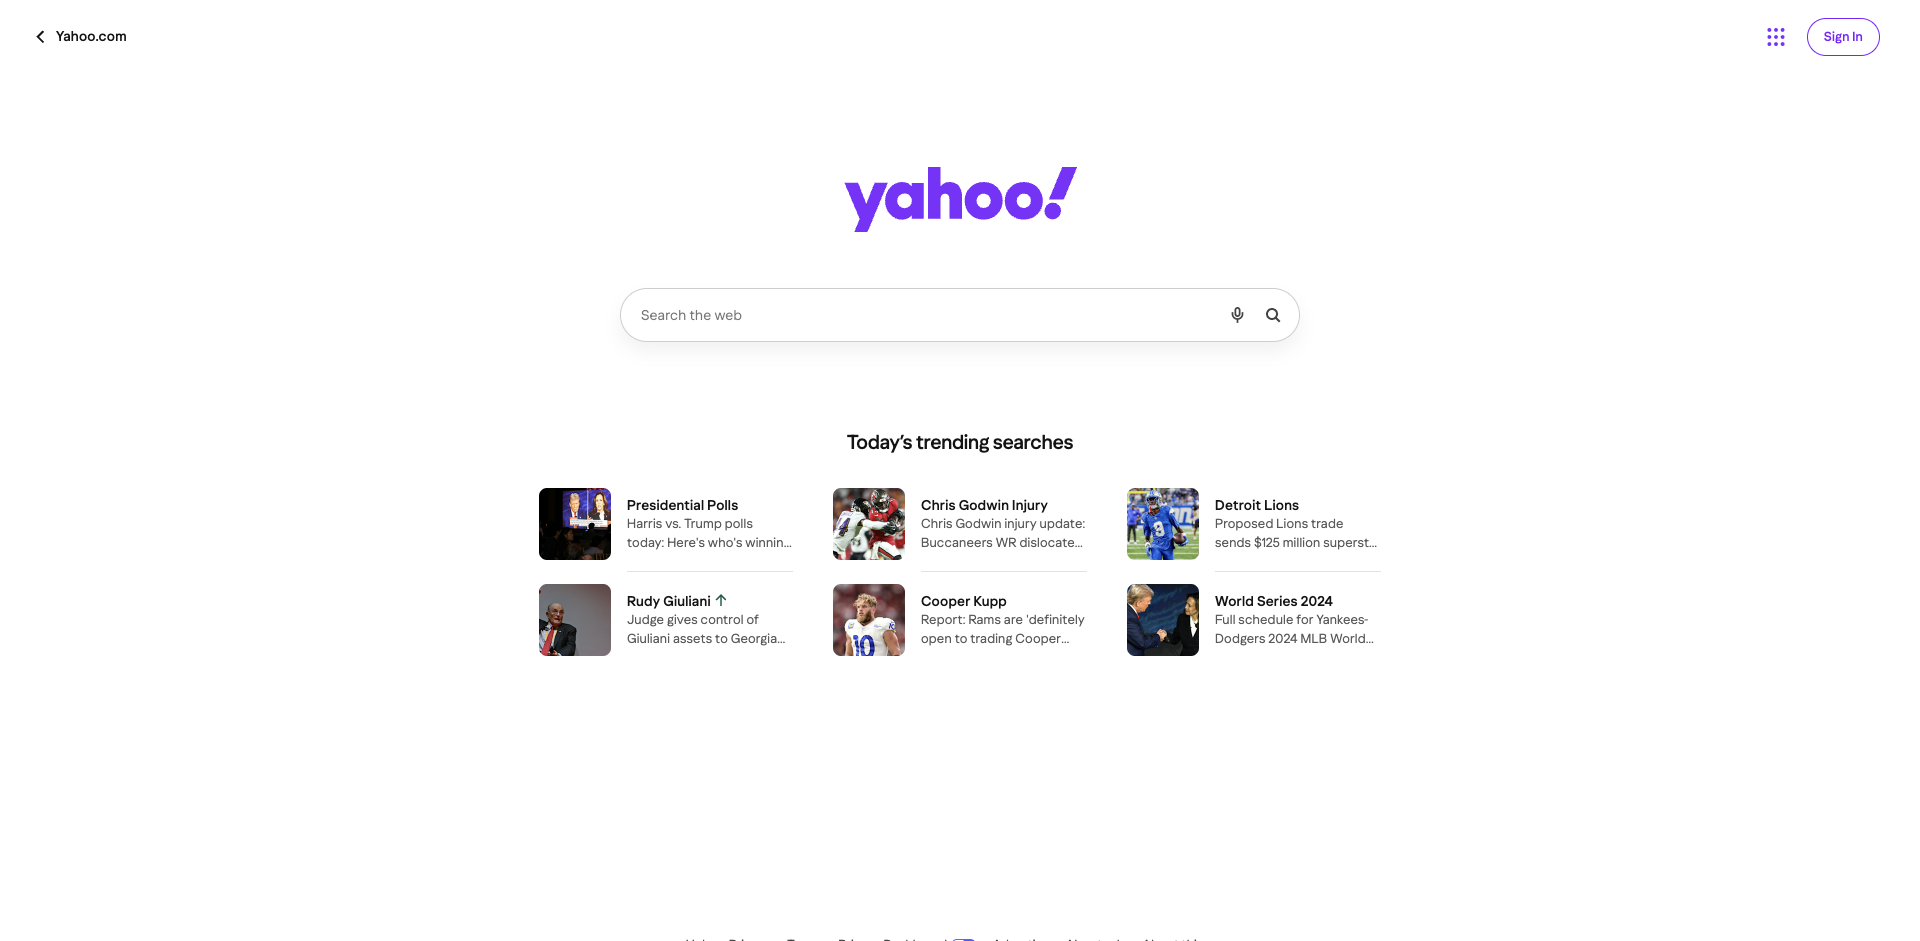button: (1220, 297, 1255, 333), (1255, 297, 1291, 333), (1760, 21, 1791, 53), (615, 203, 1305, 205), (1876, 20, 1900, 44)
input: (629, 289, 1220, 341)
link: (539, 488, 793, 560), (833, 488, 1087, 560), (1127, 488, 1381, 560), (539, 584, 793, 656), (833, 584, 1087, 656), (1127, 584, 1381, 656), (1806, 18, 1880, 56), (34, 28, 126, 47), (839, 937, 976, 941), (1142, 937, 1234, 941), (1065, 937, 1127, 941), (992, 937, 1049, 941), (729, 937, 771, 941), (787, 937, 823, 941), (686, 937, 713, 941)
